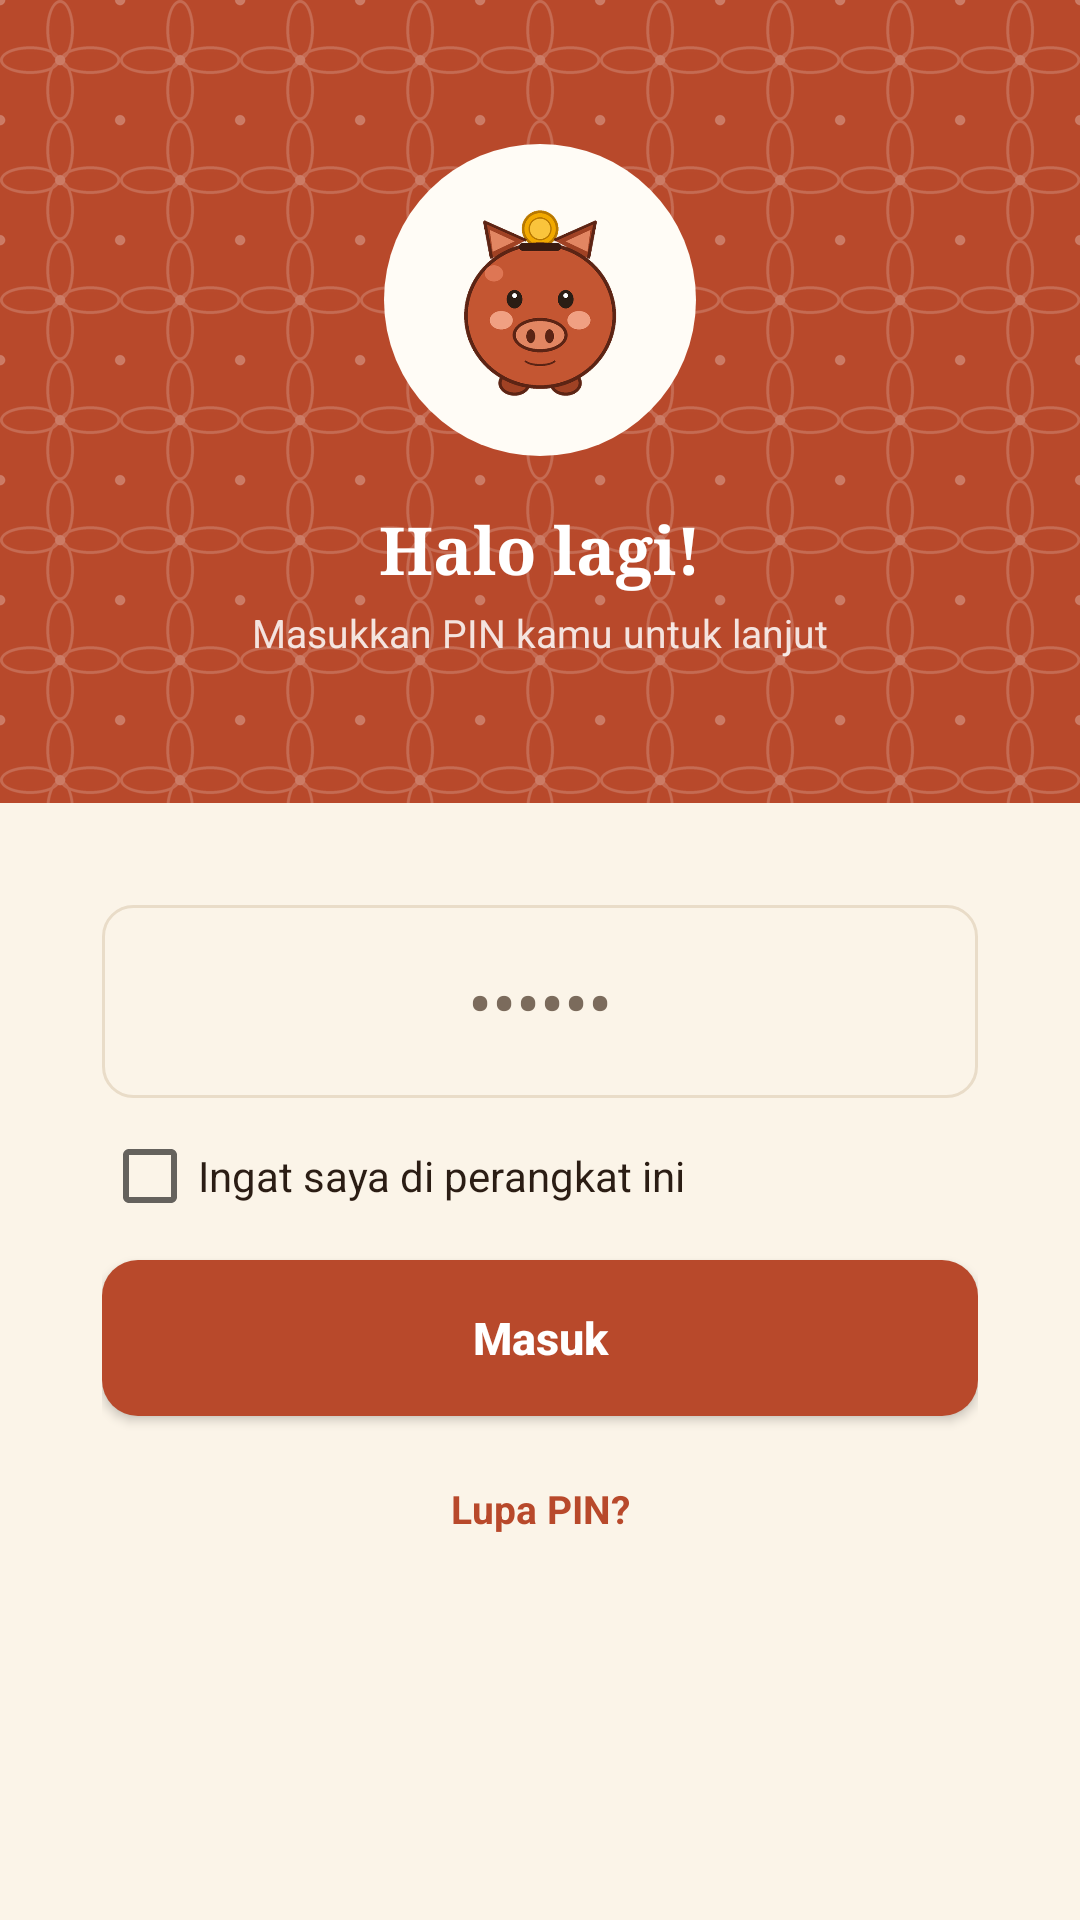

Where to tap for icons on this 1080px x 1920px app screen, as (x,y):
Maskot Dompet Mini: (540,300)
